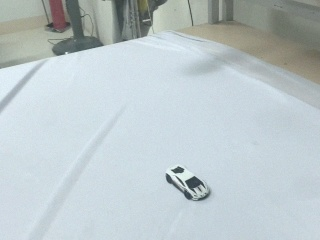toy_car: (165, 165, 210, 201)
